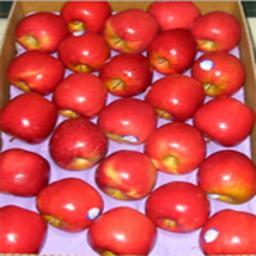apple: (35, 177, 103, 232), (86, 205, 157, 256), (143, 120, 205, 176), (145, 179, 210, 232), (196, 149, 256, 204), (49, 117, 108, 170), (95, 150, 157, 200), (194, 96, 255, 146), (1, 92, 57, 143), (6, 50, 66, 96), (97, 98, 157, 143), (144, 75, 204, 120), (200, 207, 256, 255), (51, 71, 108, 117), (98, 51, 152, 98), (103, 9, 159, 53), (191, 52, 245, 97), (1, 203, 47, 254), (189, 10, 242, 54), (1, 148, 48, 197), (147, 30, 197, 76), (15, 11, 68, 54), (58, 32, 111, 74), (60, 1, 111, 36), (147, 1, 201, 29)
